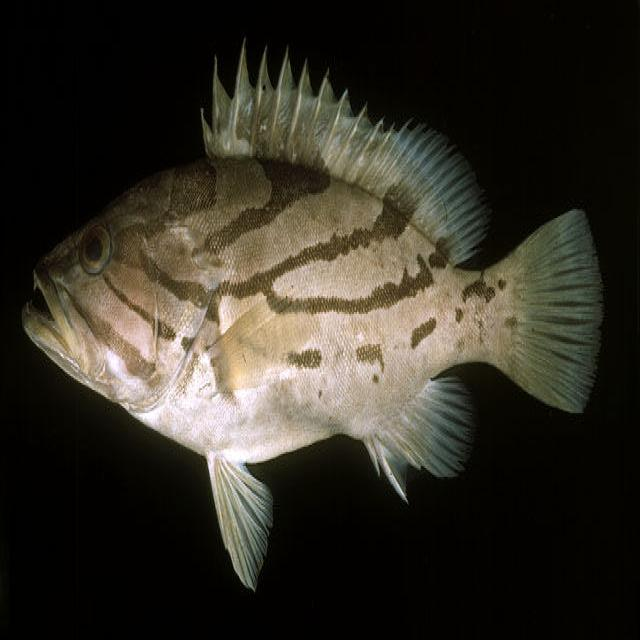ikan: (20, 36, 605, 592)
